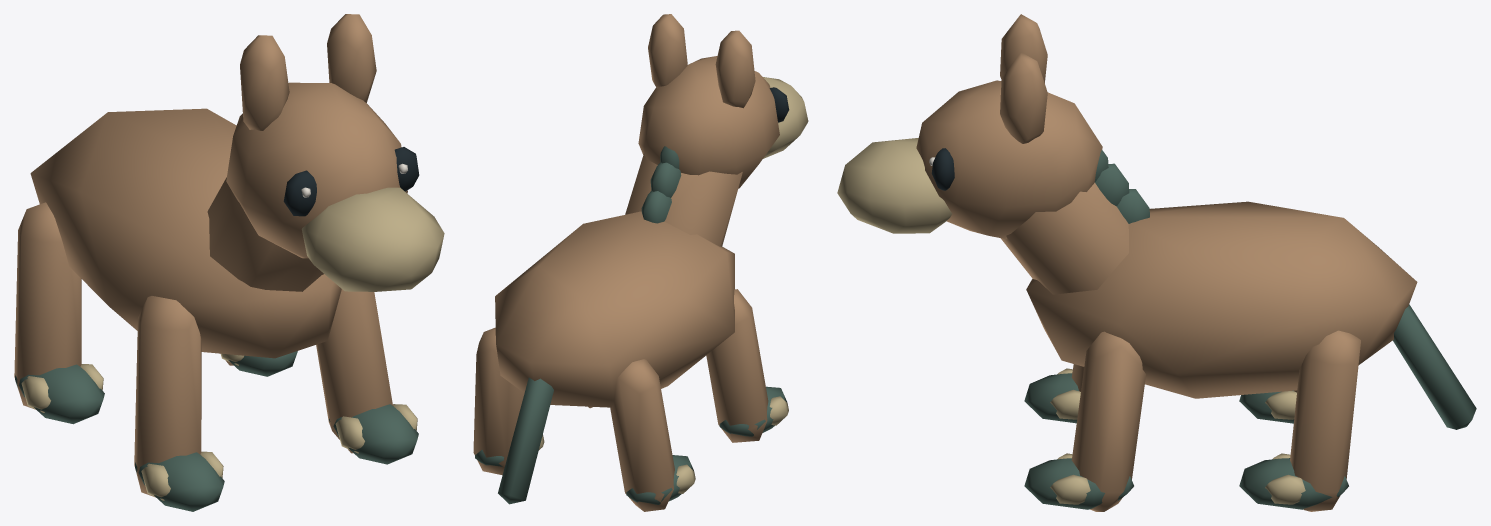
The model's file is org_merychippus.glb.
3 renders of one model, left to right at view 1: azimuth 30°, elevation 25°; view 2: azimuth 150°, elevation 25°; view 3: azimuth 270°, elevation 25°, orthographic. The views are drawn at different scales.
Parts seen in each view (by area): view 1: Head, Body, Leg_FR, Leg_BR, Leg_FL, Eye_R, Leg_BL, Eye_L; view 2: Body, Head, Leg_BR, Leg_FR, Leg_BL, Tail, Eye_R; view 3: Body, Head, Leg_FL, Leg_BL, Tail, Leg_FR, Leg_BR, Eye_L.
Boxes of the visible parts, x1=… form: Head: x1=207, y1=14, x2=444, y2=291; Body: x1=30, y1=108, x2=341, y2=358; Leg_FR: x1=134, y1=296, x2=224, y2=511; Leg_BR: x1=14, y1=202, x2=104, y2=424; Leg_FL: x1=316, y1=289, x2=418, y2=464; Eye_R: x1=283, y1=170, x2=316, y2=216; Leg_BL: x1=220, y1=351, x2=297, y2=376; Eye_L: x1=394, y1=147, x2=419, y2=191; Body: x1=495, y1=211, x2=734, y2=407; Head: x1=625, y1=14, x2=808, y2=246; Leg_BR: x1=610, y1=359, x2=695, y2=511; Leg_FR: x1=706, y1=289, x2=788, y2=442; Leg_BL: x1=473, y1=327, x2=544, y2=475; Tail: x1=498, y1=377, x2=553, y2=504; Eye_R: x1=769, y1=87, x2=789, y2=122; Body: x1=1026, y1=201, x2=1417, y2=398; Head: x1=837, y1=14, x2=1149, y2=294; Leg_FL: x1=1024, y1=331, x2=1145, y2=511; Leg_BL: x1=1239, y1=330, x2=1360, y2=511; Tail: x1=1393, y1=304, x2=1476, y2=429; Leg_FR: x1=1024, y1=364, x2=1084, y2=423; Leg_BR: x1=1239, y1=390, x2=1297, y2=423; Eye_L: x1=929, y1=148, x2=954, y2=190.
Size of the model in its own units: 0.639 by 1.1 by 1.47.
